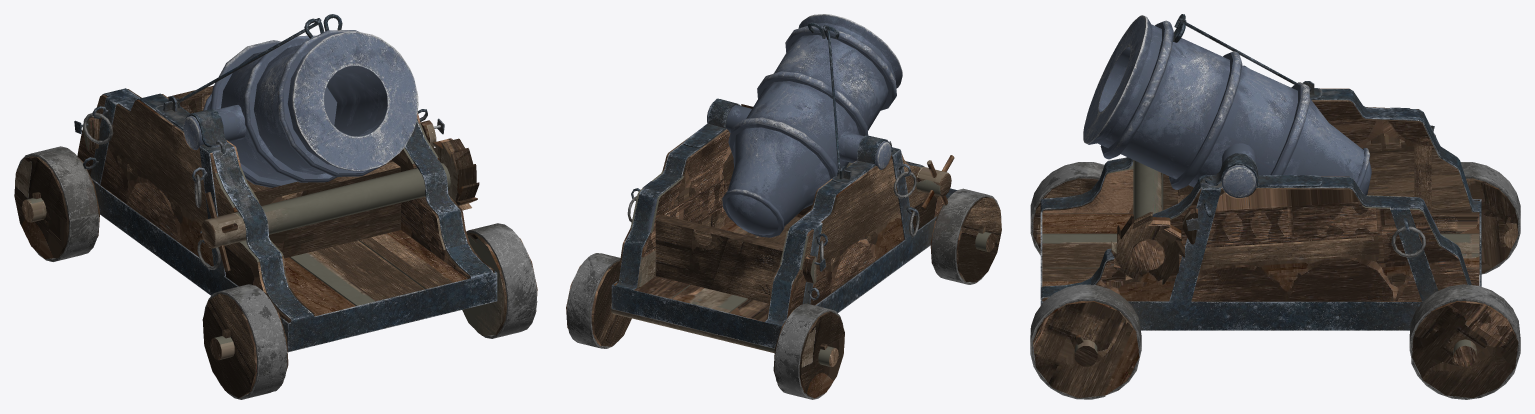
The model's file is cannon.obj.
3 views of the same model, side by side, from view 1: azimuth 30°, elevation 25°; view 2: azimuth 150°, elevation 25°; view 3: azimuth 270°, elevation 25° (orthographic). The views are drawn at different scales.
Visible parts, largest first — view 1: mortar_texturing; view 2: mortar_texturing; view 3: mortar_texturing.
Boxes of the visible parts, box(x1,y1,x2,y2) form: mortar_texturing: box(14, 14, 537, 399); mortar_texturing: box(566, 14, 1001, 399); mortar_texturing: box(1030, 14, 1520, 399).
Size of the model in its own units: 1.35 by 1.3 by 1.85.
